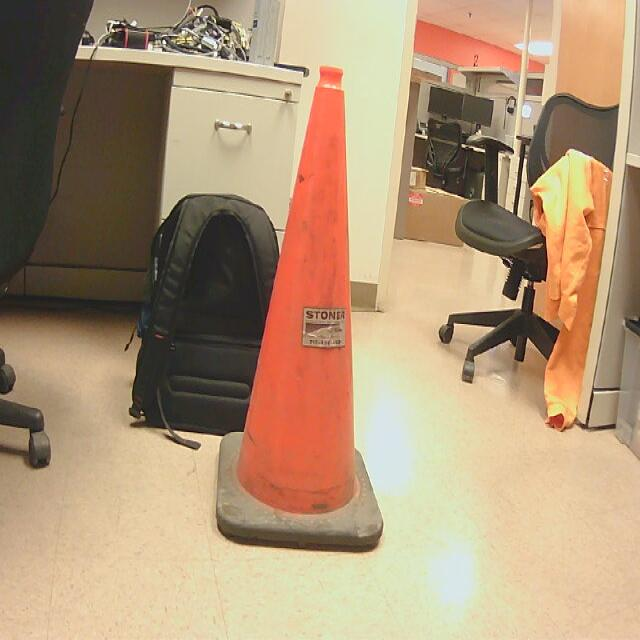traffic cone: (217, 66, 385, 557)
